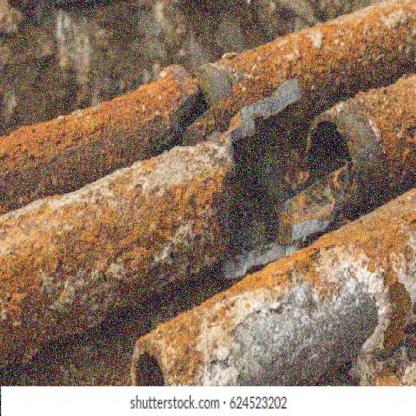burst: (210, 99, 356, 254)
